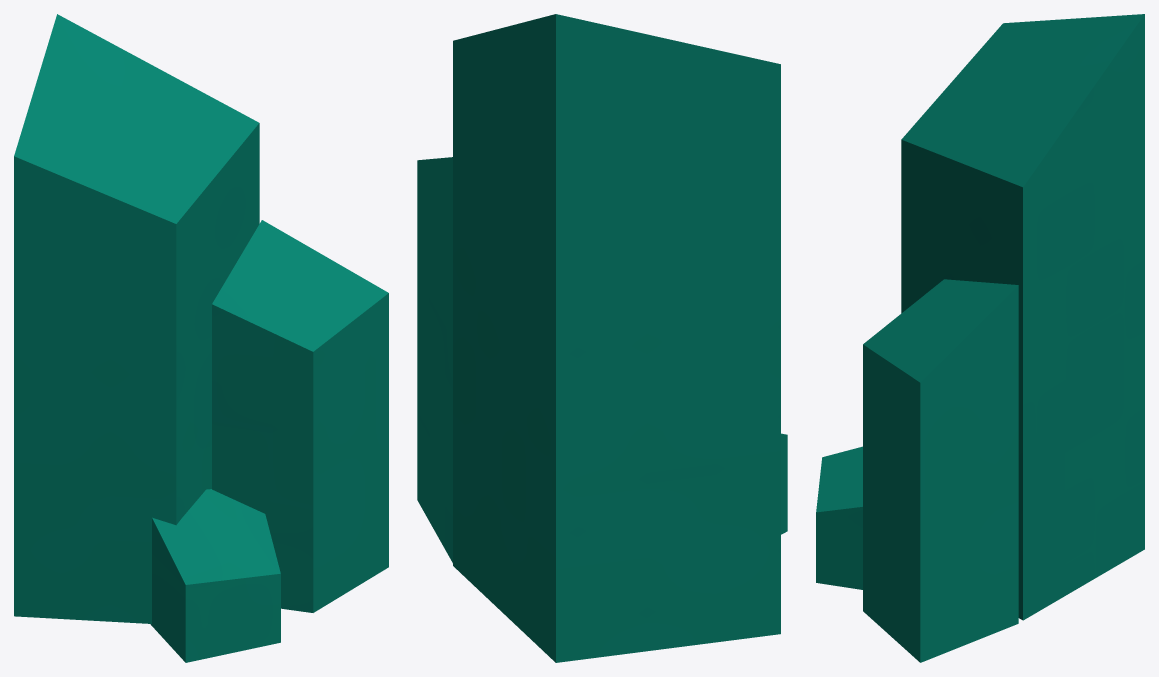
The picture shows the model from 3 angles, left to right: view 1: azimuth 30°, elevation 25°; view 2: azimuth 150°, elevation 25°; view 3: azimuth 270°, elevation 25°; orthographic projection. The views are drawn at different scales.
Parts seen in each view (by area): view 1: 7; view 2: 7; view 3: 7.
Boxes of the visible parts, <box> form: 7: <box>14,14,388,662</box>; 7: <box>417,14,787,662</box>; 7: <box>816,14,1144,662</box>.
Size of the model in its own units: 88.04 by 133 by 73.37.
Materials: 1 (1 with a texture image).
